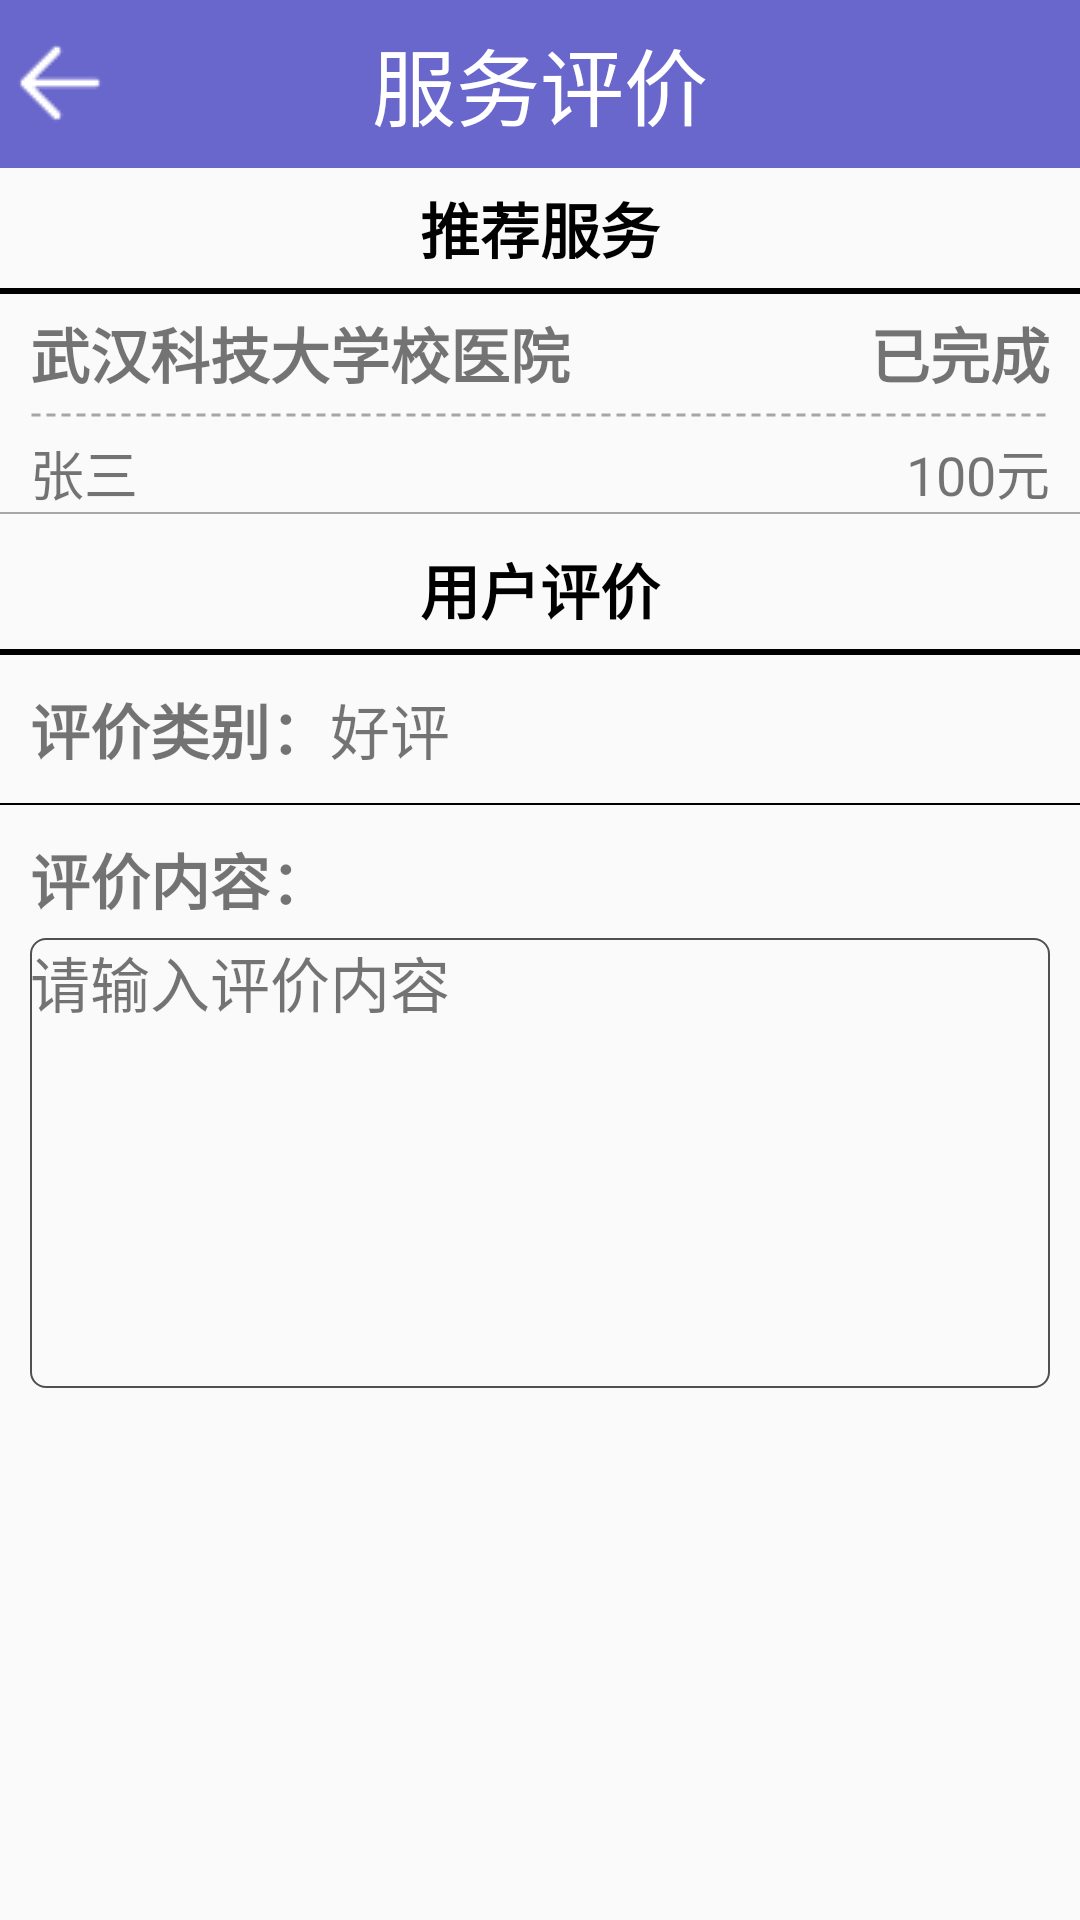

Locate icon controls on the screen. Image size 1080 x 1920, boxes as box(x1, y1, x2, y2).
back: box(20, 46, 100, 120)
